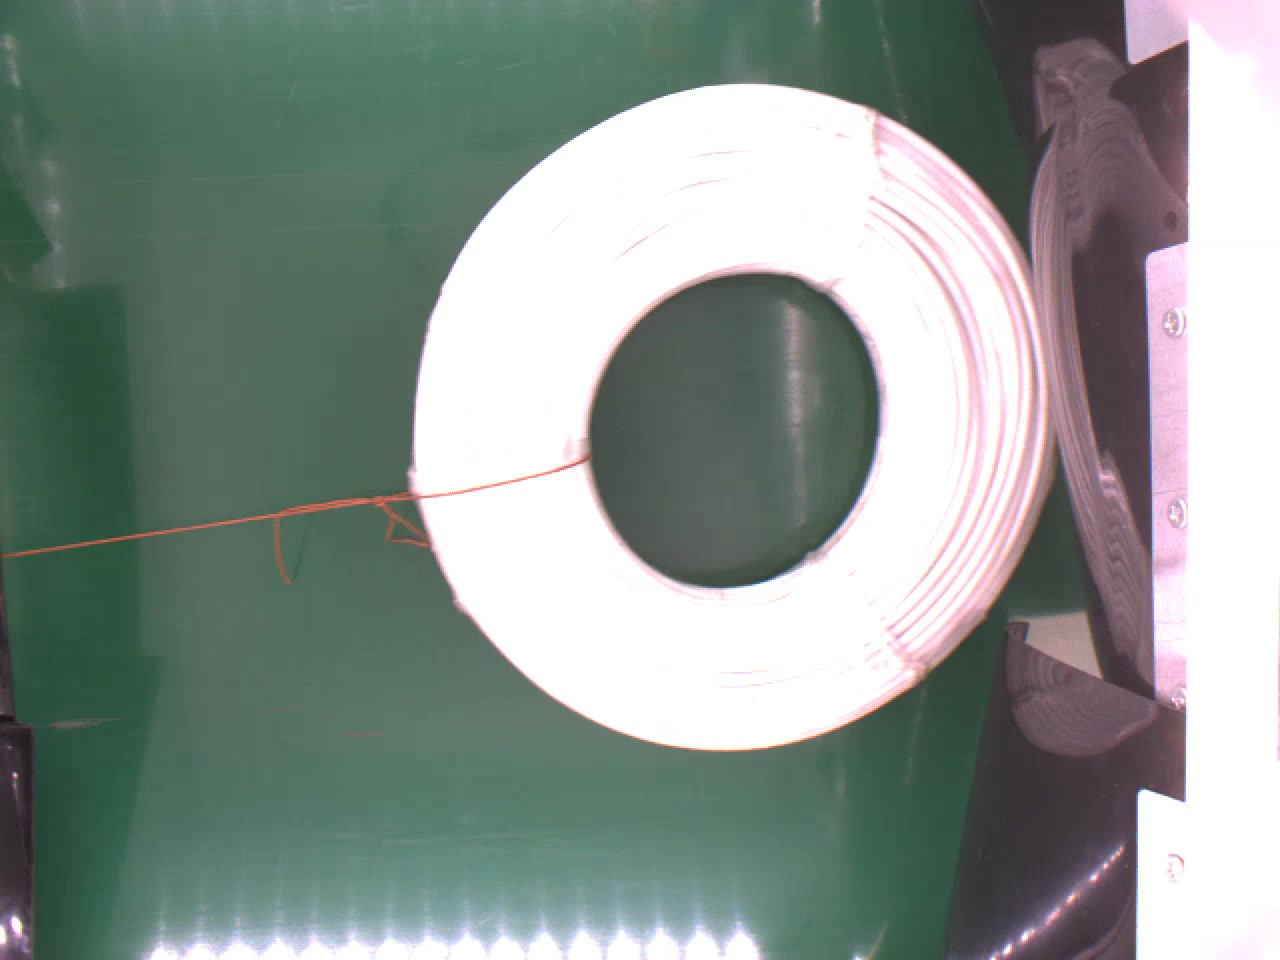white: (410, 80, 1053, 753)
